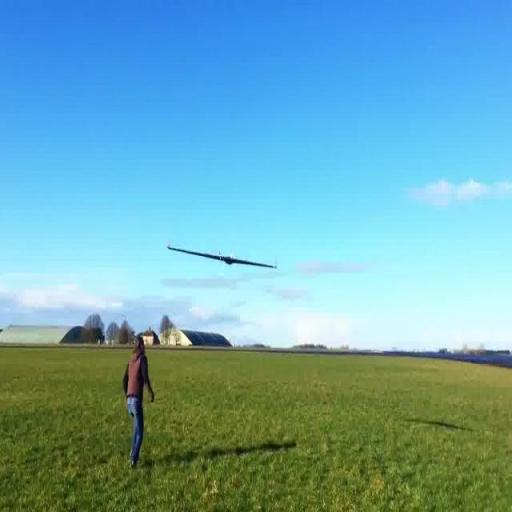uav: (165, 241, 278, 279)
